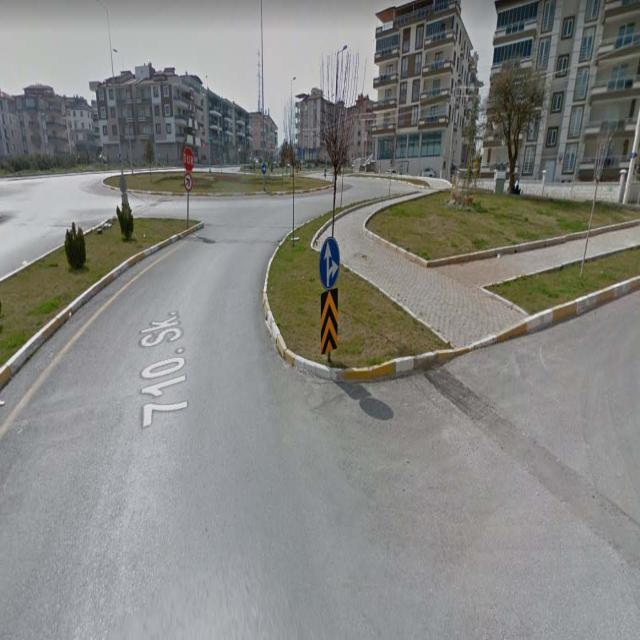dur: (183, 145, 193, 170)
ilerisag: (321, 237, 340, 287)
soladonulmez: (184, 173, 192, 193)
